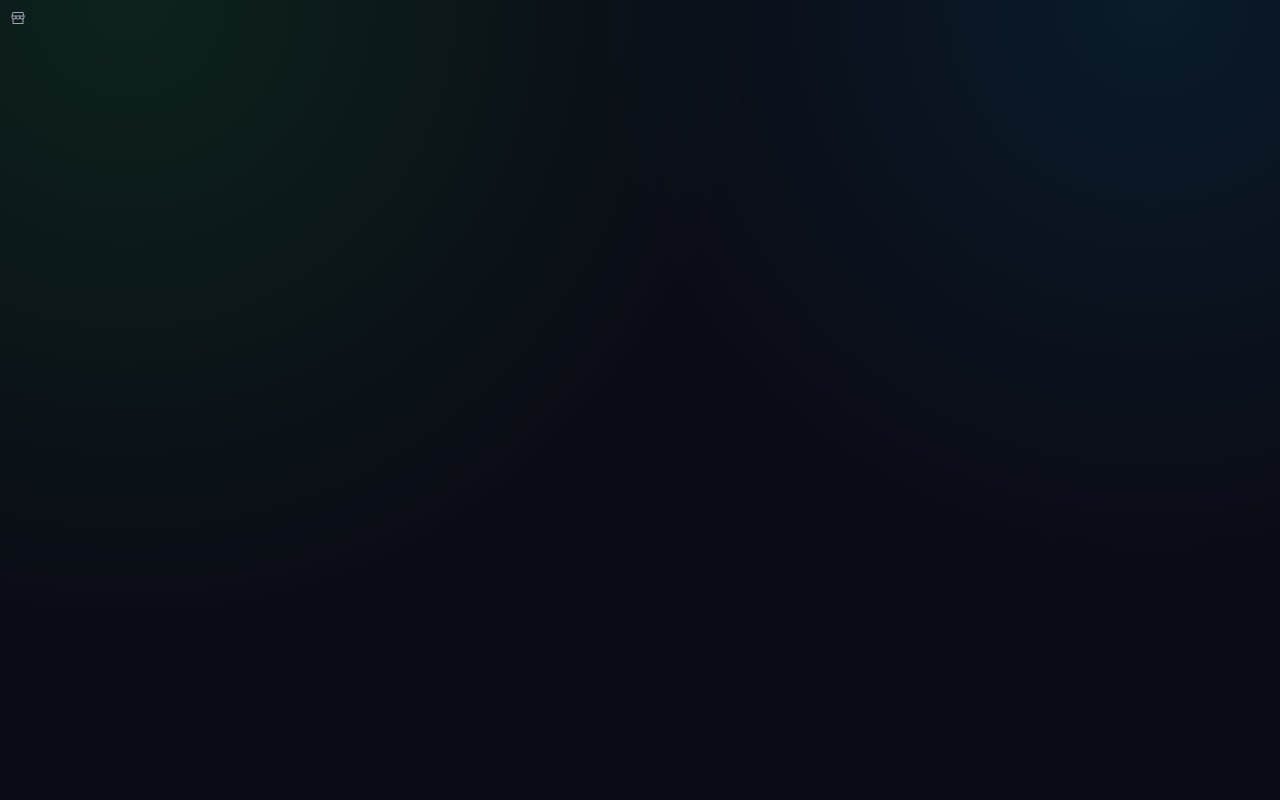
Test case: WhatsApp Catalog Integration & Inbox Dispatch › allows selecting multiple products via checkboxes and dispatches batch message
Later steps or results of the test are not shown.
Click the button named "Abrir catálogo WhatsApp" at (18, 18), box [0, 0, 36, 36]
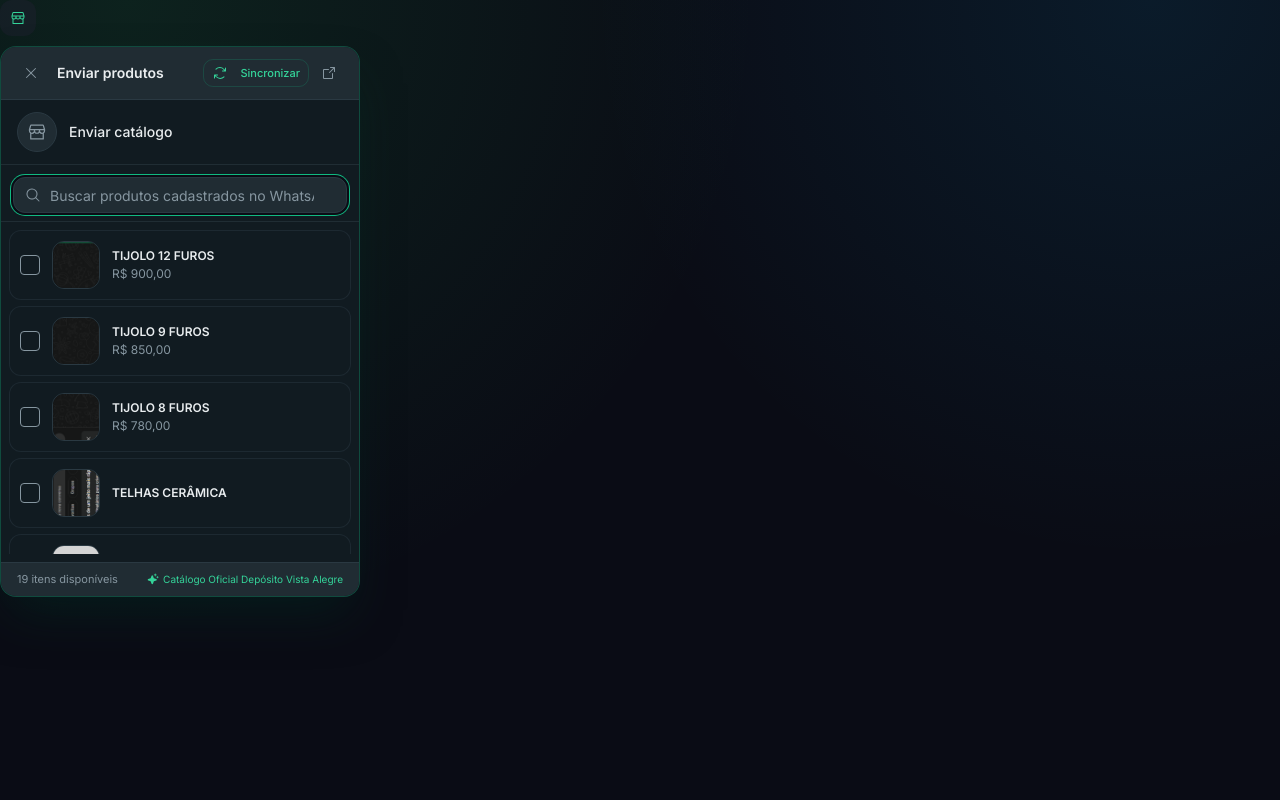
Click the element with class "cursor-pointer" showing "TIJOLO 12 FUROS R$ 900,00" at (180, 265), box [9, 230, 351, 300]
(page scrolled)
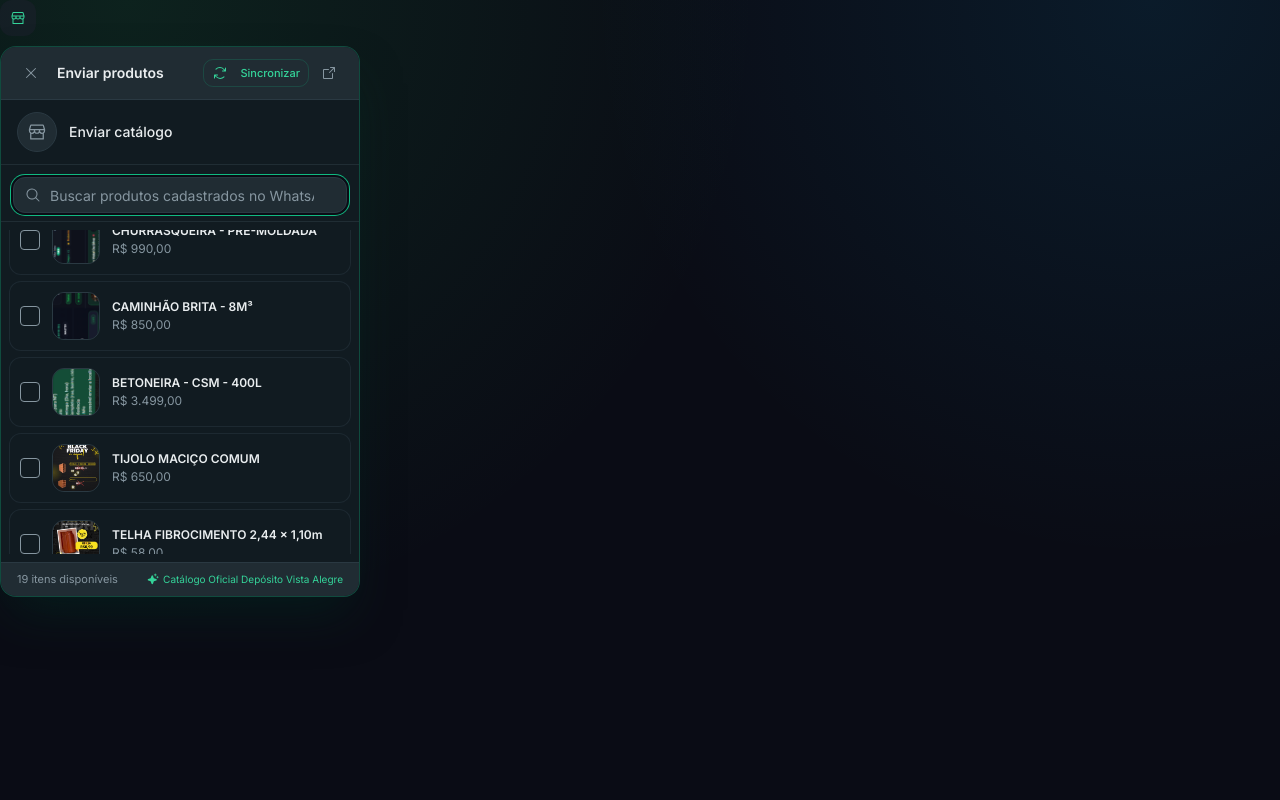
Click the element with class "cursor-pointer" that starts with "BETONEIRA - CSM - 400L" at (180, 392), box [9, 357, 351, 427]
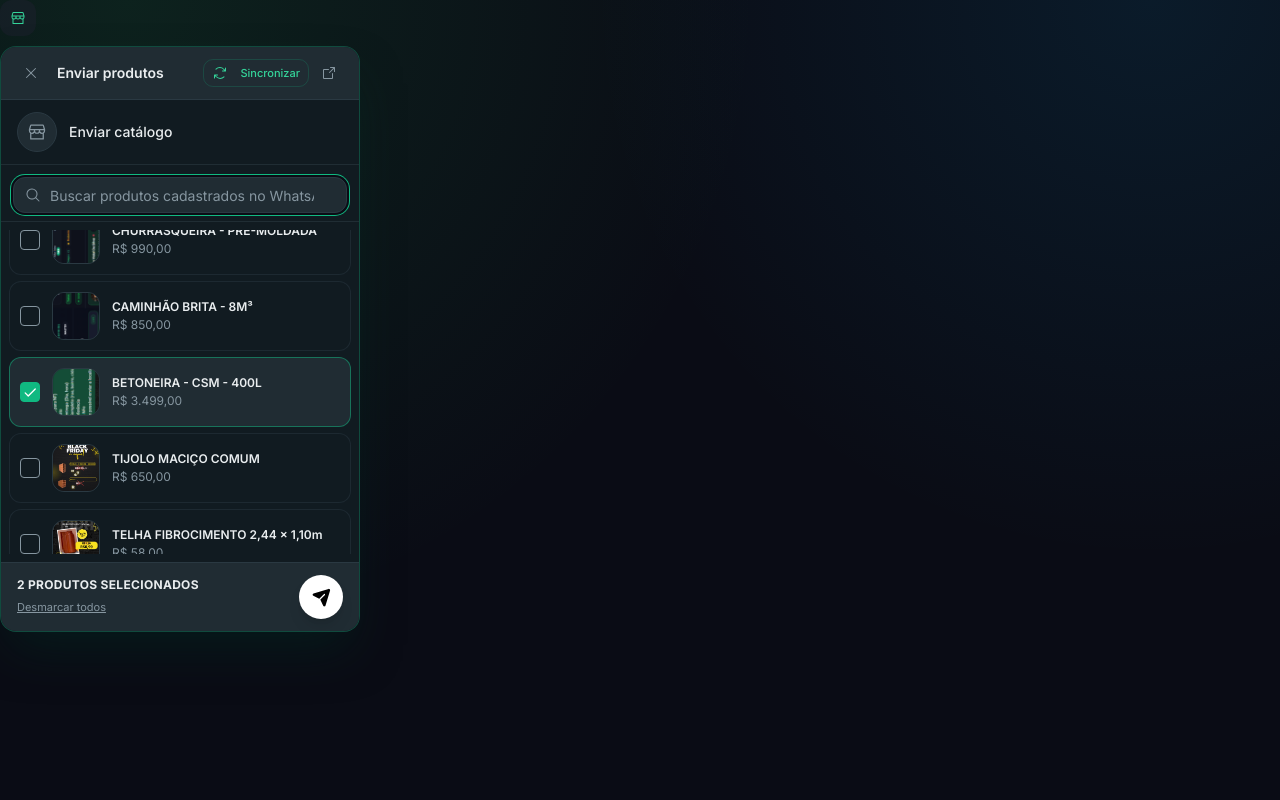
Check: the button named "Enviar produtos (2)" is shown, box [299, 575, 343, 619]
